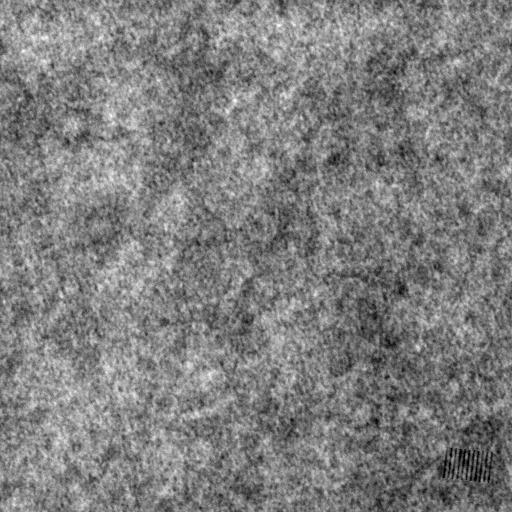DefectTypeB: (442, 445, 494, 483)
